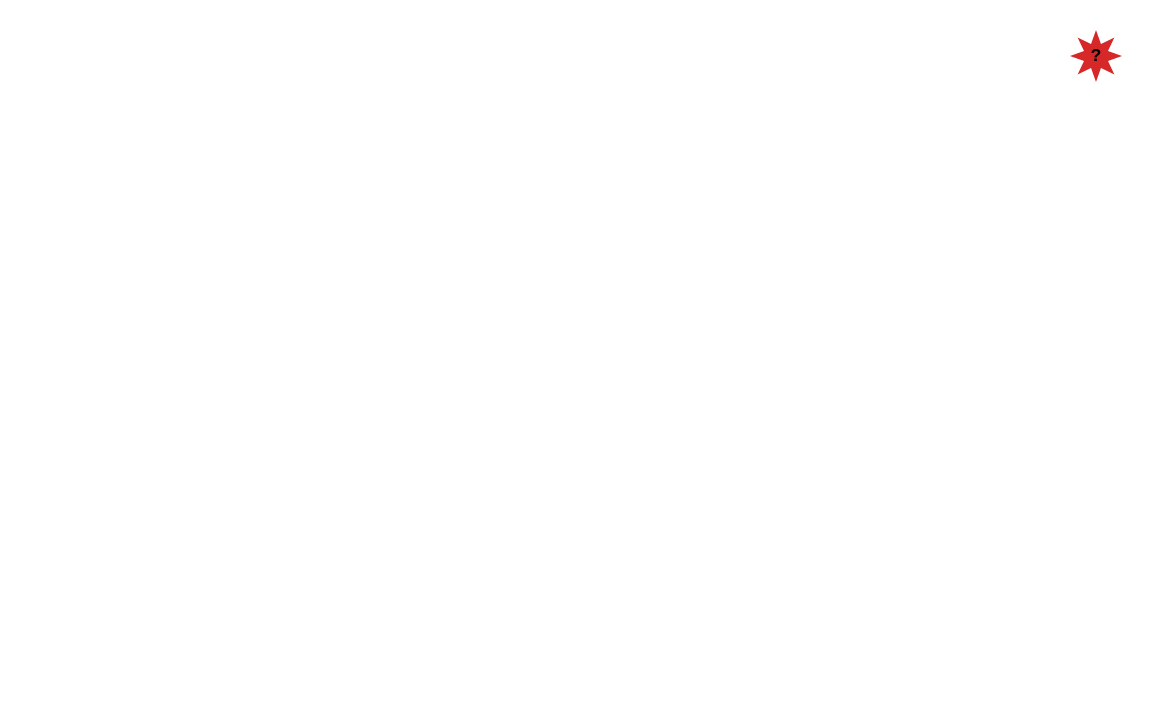
Test: HelpStar › closes on the × button
Click the button named "how does this work" at (1096, 56), box [1070, 30, 1122, 82]
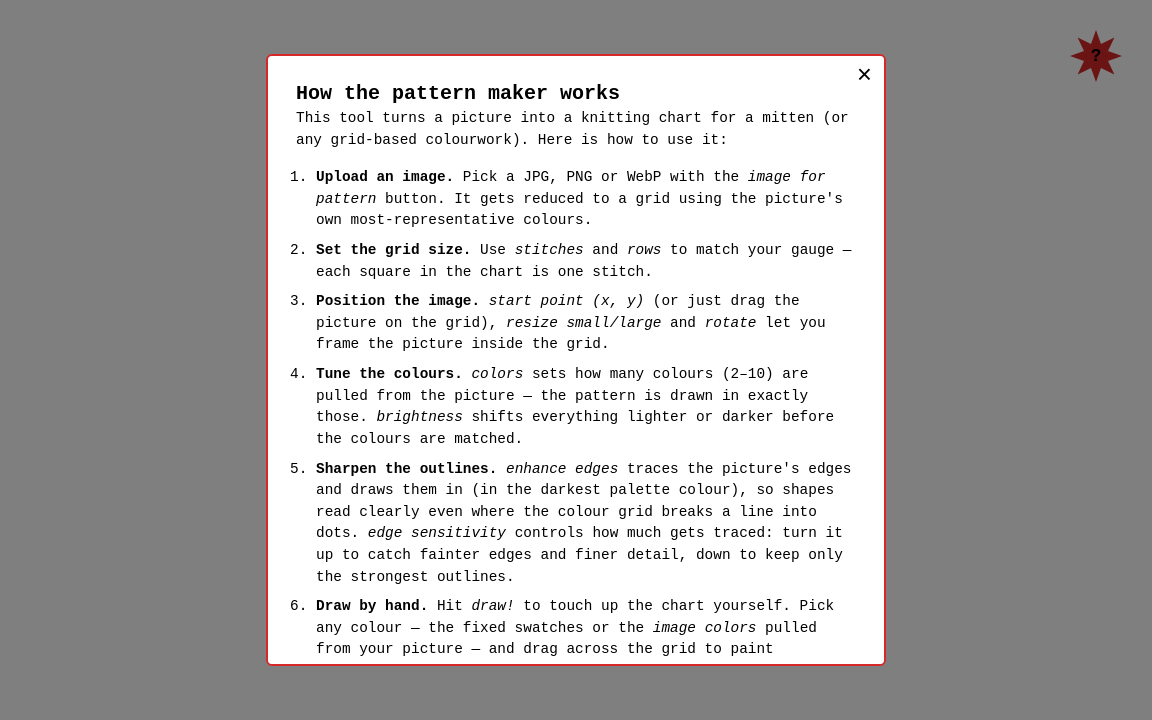
Click the button named "Close" at (864, 77), box [857, 64, 872, 90]
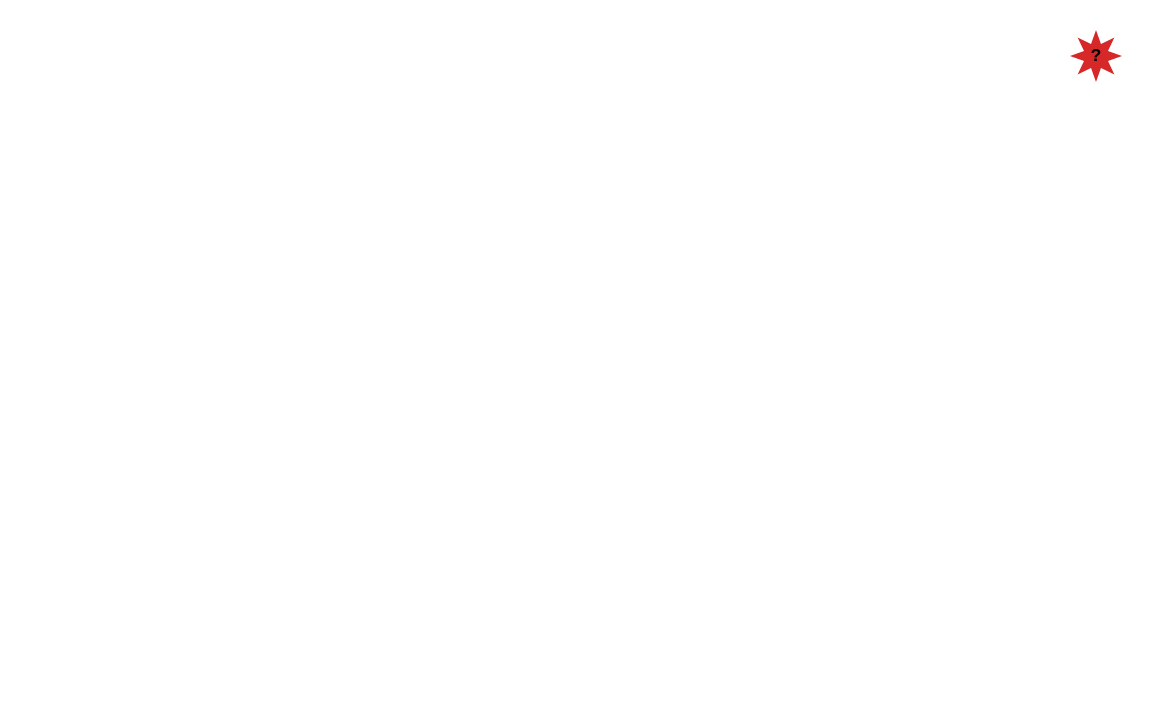
Expected: the dialog is gone
